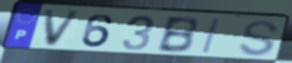3: (120, 14, 156, 51)
6: (82, 13, 115, 48)
B: (155, 16, 200, 55)
I: (200, 17, 223, 56)
S: (237, 19, 281, 58)
V: (43, 9, 84, 49)
